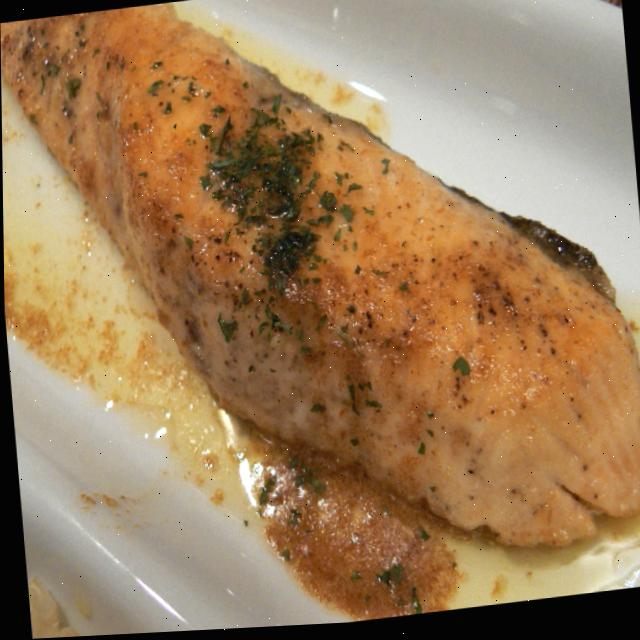熟制海鲜: (0, 0, 630, 615)
